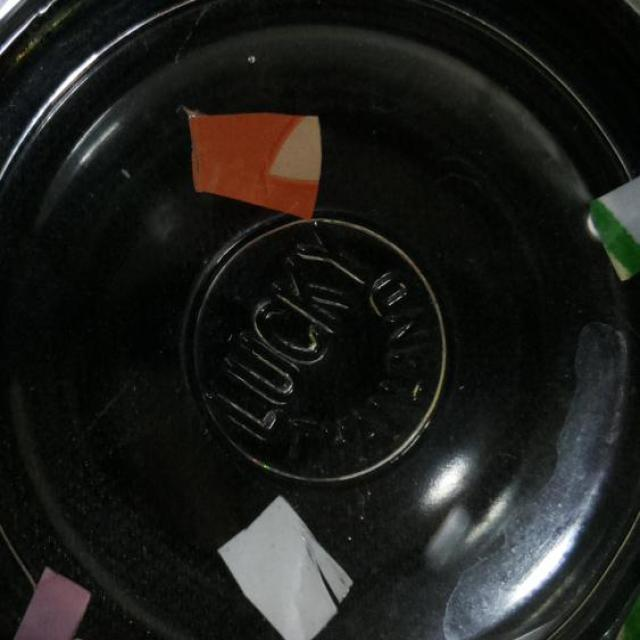fiber: (207, 496, 370, 639), (175, 108, 331, 226), (0, 558, 100, 639), (584, 165, 639, 282)
